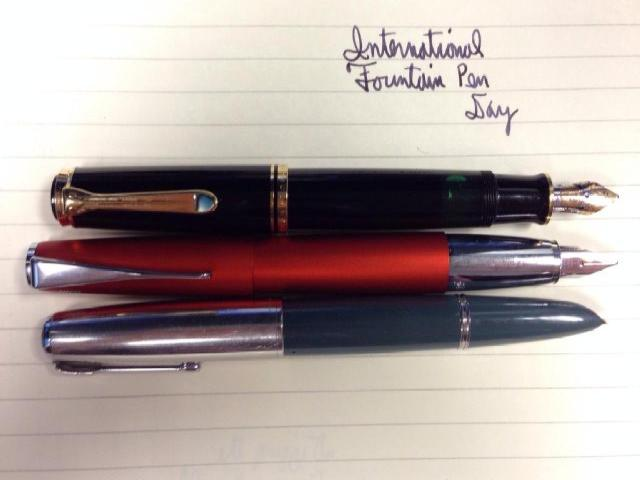PEN: (33, 295, 611, 386), (39, 148, 629, 233), (20, 223, 640, 302)
